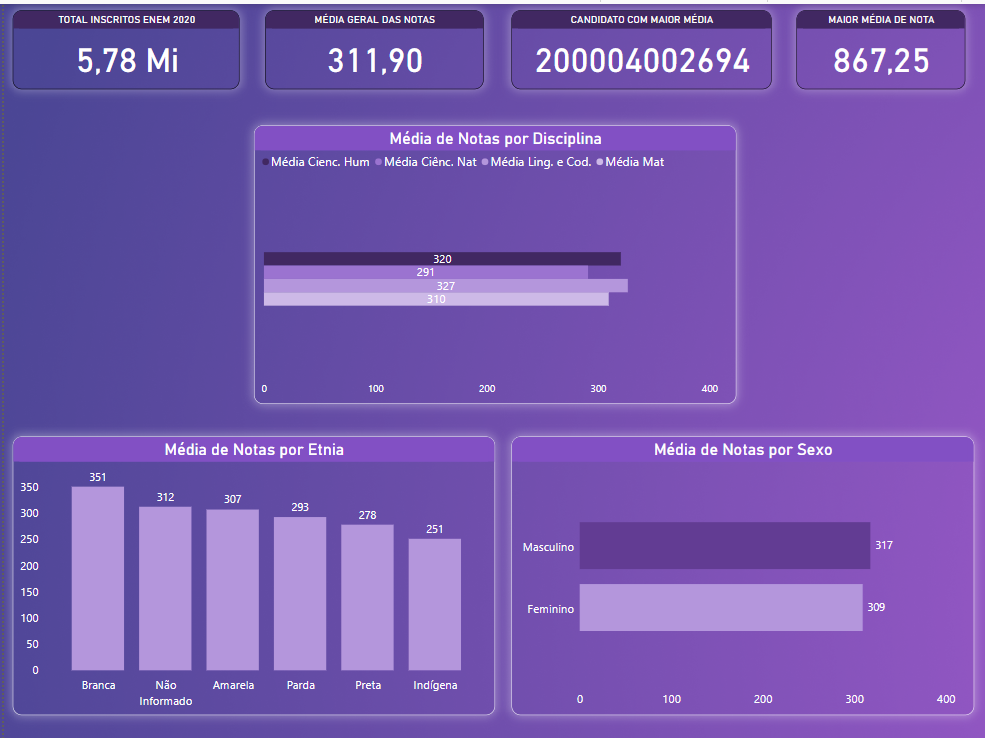

This screenshot's page, from the dashboard's own definition file:
{"tool":"powerbi","page":{"name":"Indicadores","canvas":[1600,1200],"ordinal":0},"visuals":[{"type":"card","title":"TOTAL INSCRITOS ENEM 2020","fields":{"Values":["public fat_notas.TOTAL_INSCRITOS"]},"box":[14.1,10.1,370,128.7],"z":0},{"type":"card","title":"MÉDIA GERAL DAS NOTAS","fields":{"Values":["public fat_notas.Media_Geral"]},"box":[426.3,10.1,355.9,128.7],"z":1000},{"type":"card","title":"MAIOR MÉDIA DE NOTA","fields":{"Values":["public fat_notas.Maiores_Notas"]},"box":[1292.9,10.1,275.5,128.7],"z":2000},{"type":"card","title":"CANDIDATO COM MAIOR MÉDIA","fields":{"Values":["public fat_notas.Candidato_Com_Maior_Media"]},"box":[828.4,10.1,424.3,128.7],"z":3000},{"type":"clusteredBarChart","title":"Média de Notas por Disciplina","fields":{"Y":["public fat_notas.Média_CH","public fat_notas.Média_CN","public fat_notas.Média_LC","public fat_notas.Média_MT"]},"box":[407.6,197.7,786.7,454.5],"z":4000},{"type":"barChart","title":"Média de Notas por Sexo","fields":{"Category":["public dim_candidato.sexo"],"Y":["public fat_notas.Media_Geral"]},"box":[828.4,705.8,754,454.4],"z":5000},{"type":"columnChart","title":"Média de Notas por Etnia","fields":{"Y":["public fat_notas.Media_Geral"],"Category":["public dim_candidato.etnia"]},"box":[14.1,705.8,786.2,454.4],"z":6000}]}

Visuals, with their boxes in screenshot pixels (x1, y1, x2, y2), scaled from the page's 1600x1200 canvas onto the 985x738 screenshot:
"TOTAL INSCRITOS ENEM 2020" card: 9:6:236:85
"MÉDIA GERAL DAS NOTAS" card: 262:6:482:85
"MAIOR MÉDIA DE NOTA" card: 796:6:966:85
"CANDIDATO COM MAIOR MÉDIA" card: 510:6:771:85
"Média de Notas por Disciplina" clusteredBarChart: 251:122:735:401
"Média de Notas por Sexo" barChart: 510:434:974:714
"Média de Notas por Etnia" columnChart: 9:434:493:714
